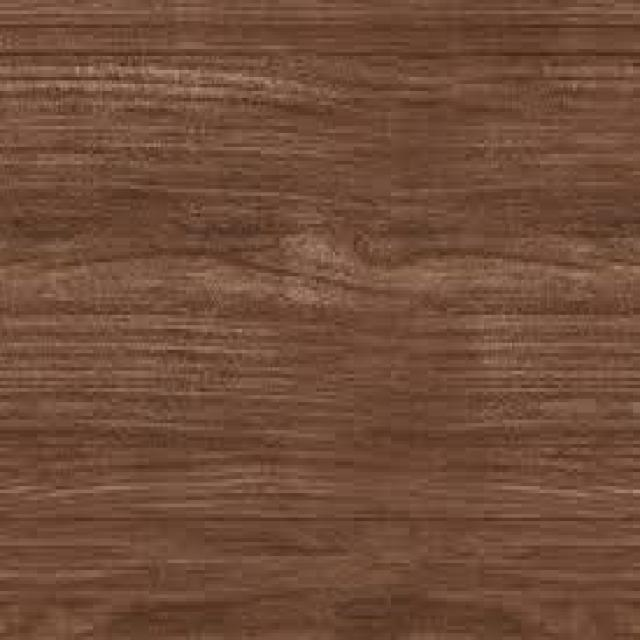perfect-wooden-plate: (0, 2, 640, 637)
